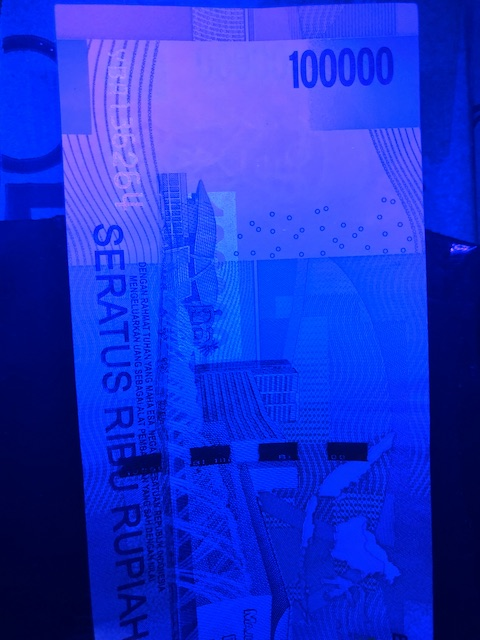100_RIBU_ASLI: (175, 189, 249, 364)
